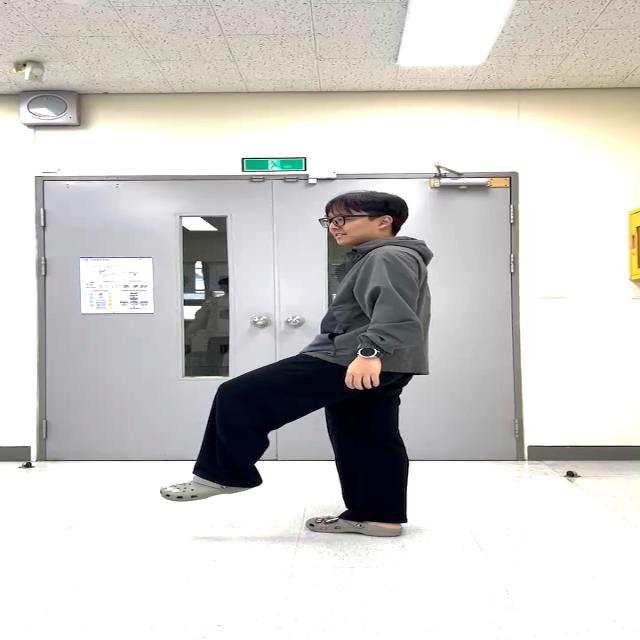leg: (156, 354, 344, 539)
